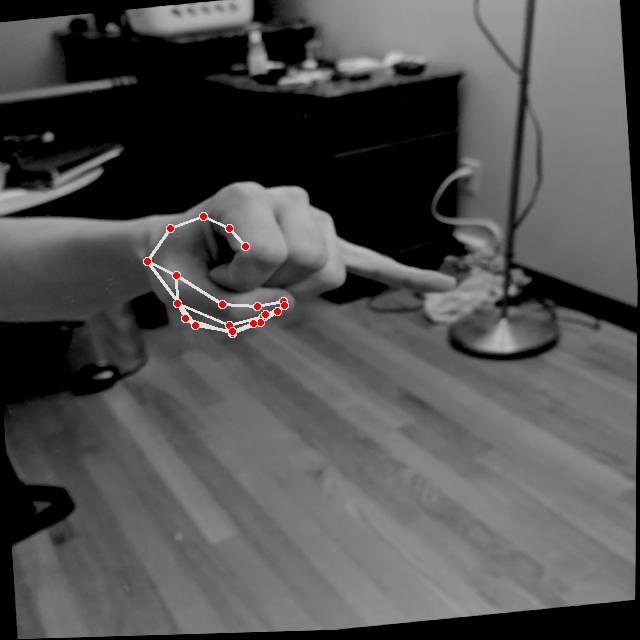J: (138, 155, 468, 344)
